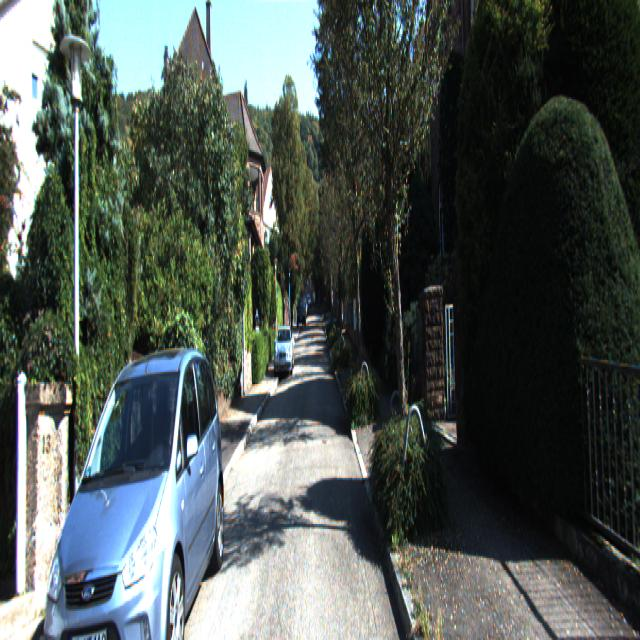Car: (32, 337, 227, 638), (273, 323, 294, 378)
DontCare: (297, 292, 311, 326)
